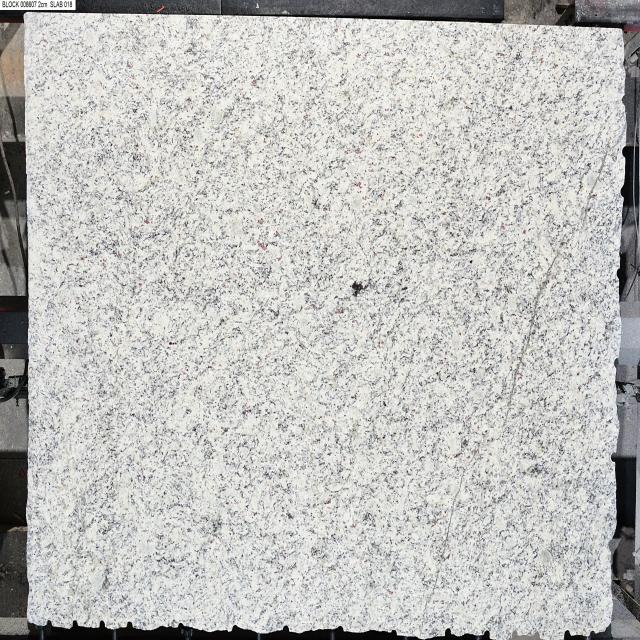chapa: (25, 14, 625, 638)
veio: (44, 617, 54, 631), (482, 626, 491, 640), (610, 450, 618, 464), (562, 628, 571, 640), (443, 626, 452, 638), (97, 618, 106, 630), (125, 619, 134, 629), (72, 619, 78, 629)
